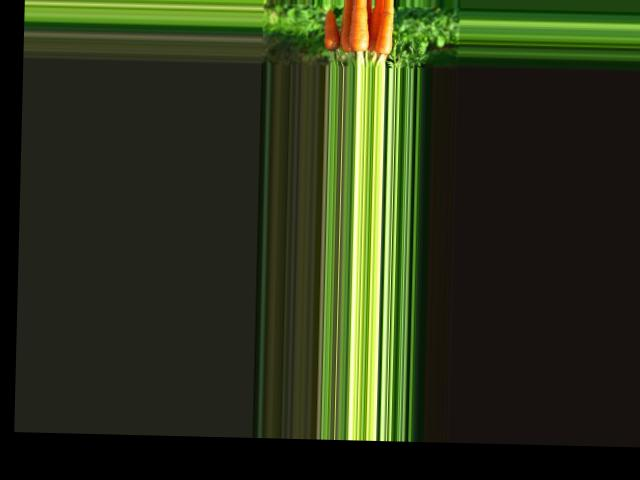carrot: (320, 3, 342, 51)
